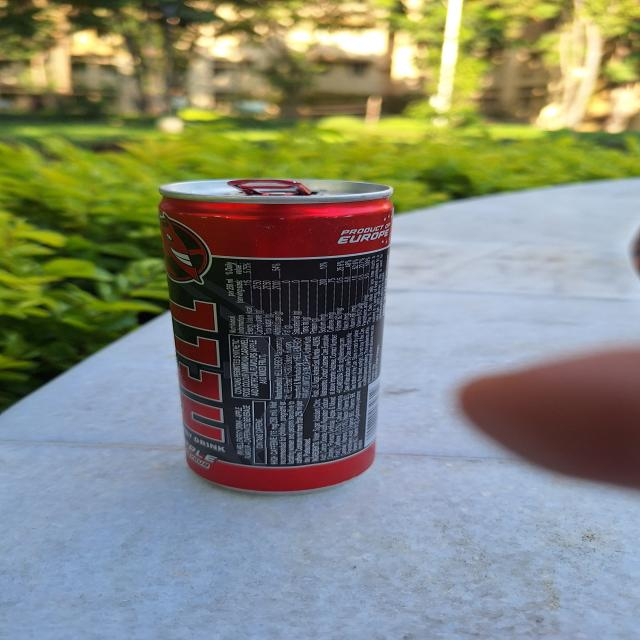Hell Apple: (128, 181, 420, 488)
